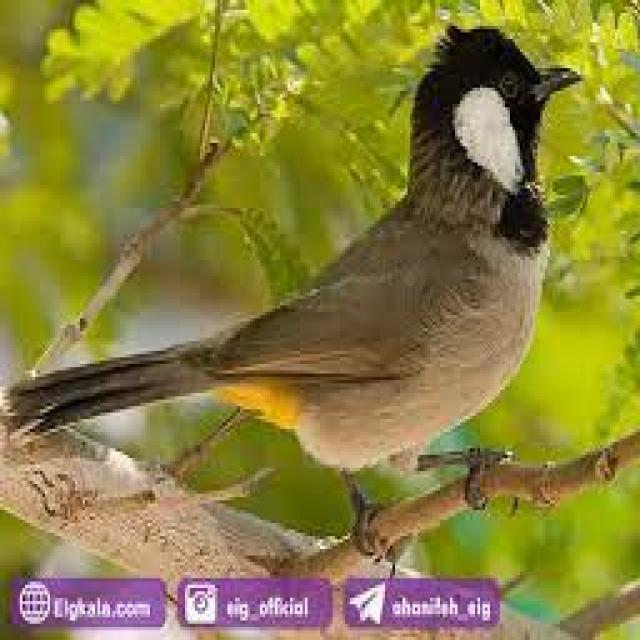bird: (13, 13, 585, 566)
